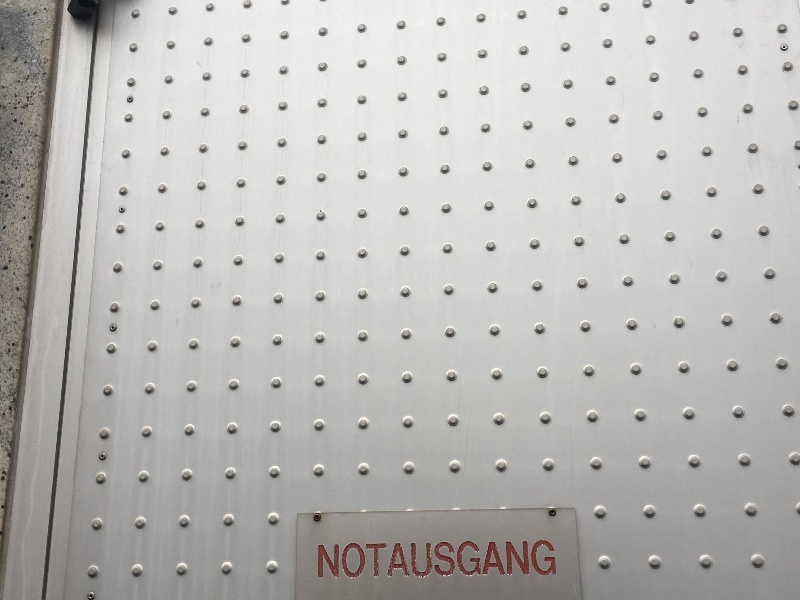text: (321, 542, 336, 579), (337, 542, 352, 579), (353, 542, 368, 579), (369, 542, 384, 579), (385, 542, 400, 579), (401, 542, 416, 579), (417, 542, 432, 579), (433, 542, 448, 579), (449, 542, 464, 579), (465, 542, 480, 579), (481, 542, 496, 579), (497, 542, 512, 579), (513, 542, 528, 579), (529, 542, 544, 579), (545, 542, 558, 579), (319, 542, 320, 579)
